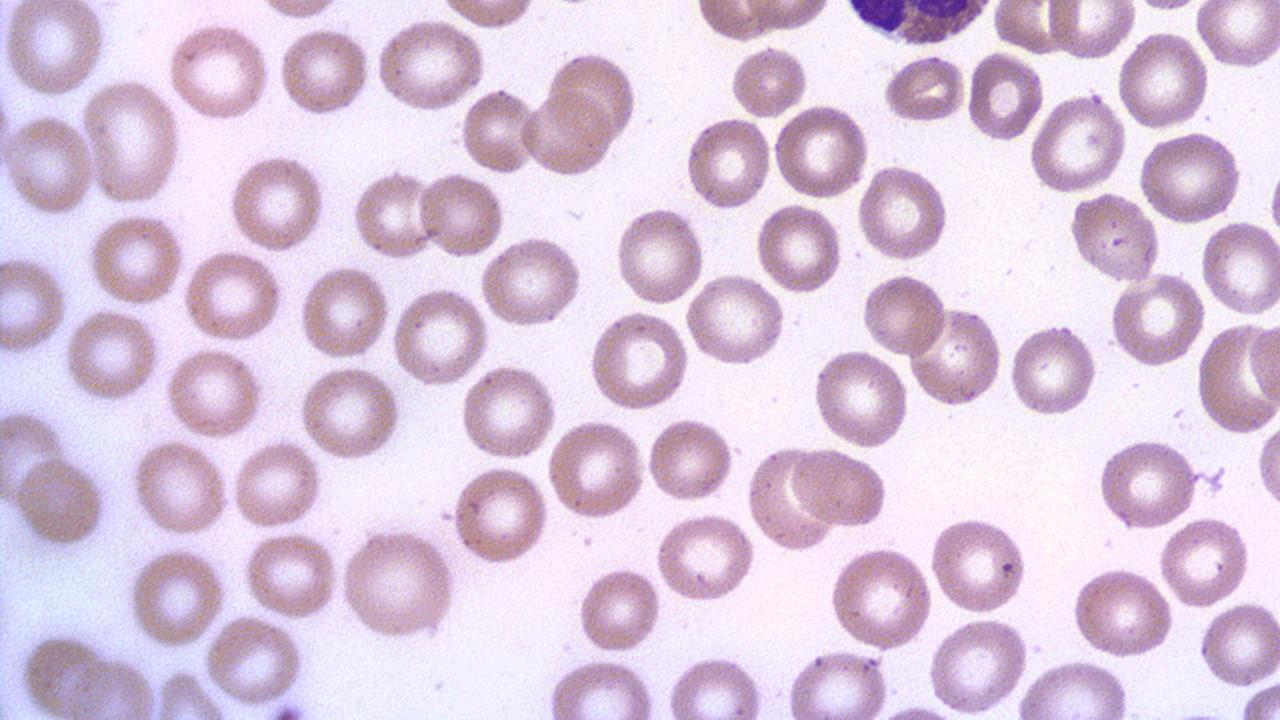RBC: (338, 526, 459, 641), (81, 77, 183, 206), (828, 544, 935, 650), (163, 23, 274, 123), (544, 417, 648, 522), (124, 546, 228, 650), (374, 17, 486, 112), (926, 615, 1032, 715), (906, 302, 1004, 410), (588, 310, 690, 413), (927, 513, 1030, 615), (450, 463, 550, 568), (1, 1, 110, 97), (225, 153, 328, 254), (1070, 562, 1176, 660), (297, 364, 404, 461), (1, 111, 97, 219), (746, 442, 838, 554), (389, 286, 491, 387), (128, 440, 231, 540), (1094, 435, 1202, 530), (478, 235, 587, 329), (182, 248, 286, 346), (1135, 130, 1243, 224), (1027, 94, 1127, 195), (812, 348, 912, 448), (458, 363, 560, 461), (684, 271, 788, 367), (770, 103, 872, 200), (162, 347, 266, 442), (654, 510, 758, 604), (612, 204, 706, 308), (62, 306, 161, 404), (1108, 269, 1206, 368), (296, 262, 391, 364), (203, 614, 307, 706), (86, 210, 184, 307), (1116, 30, 1210, 130), (14, 454, 110, 551), (1006, 320, 1100, 419), (1156, 514, 1252, 610), (276, 25, 371, 122), (858, 163, 950, 263), (1197, 316, 1277, 430), (546, 46, 638, 145), (1067, 190, 1163, 284), (242, 528, 340, 620), (684, 112, 772, 213), (886, 280, 974, 380), (349, 167, 441, 262), (789, 445, 891, 530), (754, 201, 846, 295), (522, 89, 614, 180), (230, 439, 322, 530), (644, 414, 735, 506), (1199, 216, 1280, 318), (576, 562, 662, 656), (0, 405, 71, 516), (860, 270, 948, 359), (418, 170, 505, 260), (965, 48, 1045, 144), (788, 648, 894, 718), (544, 653, 660, 716), (460, 85, 540, 176), (1197, 600, 1279, 688), (1014, 657, 1134, 717), (0, 254, 69, 358), (881, 50, 967, 126), (666, 652, 768, 716), (728, 42, 809, 121), (1193, 1, 1280, 72), (65, 654, 159, 719), (1046, 1, 1138, 62), (990, 0, 1077, 57), (692, 0, 776, 41), (432, 0, 544, 30), (1246, 318, 1280, 413), (740, 0, 836, 33), (1252, 418, 1280, 512), (251, 0, 345, 23), (1240, 678, 1280, 720)
WBC: (837, 0, 1003, 48)
